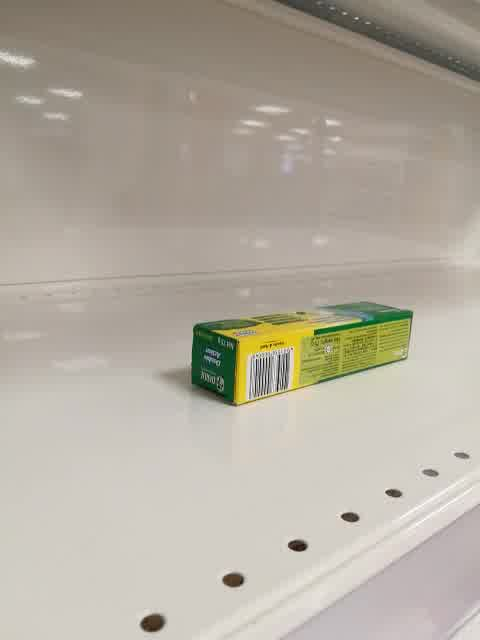toothpaste: (191, 301, 414, 408)
